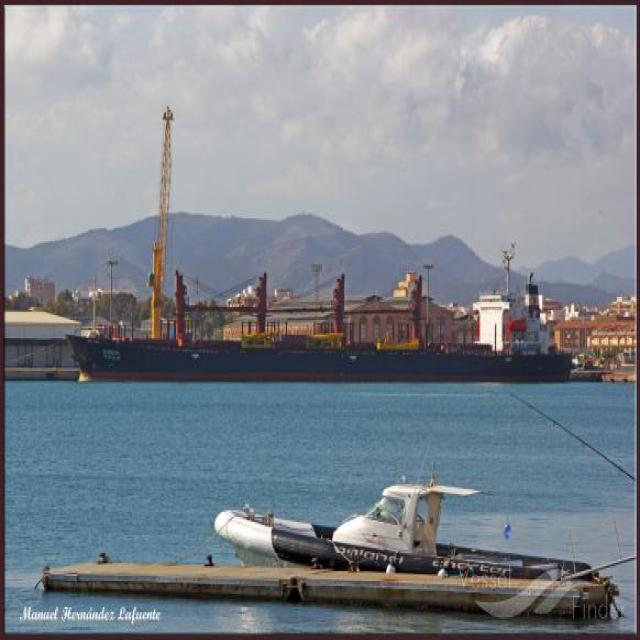OCR: (97, 344, 122, 365)
